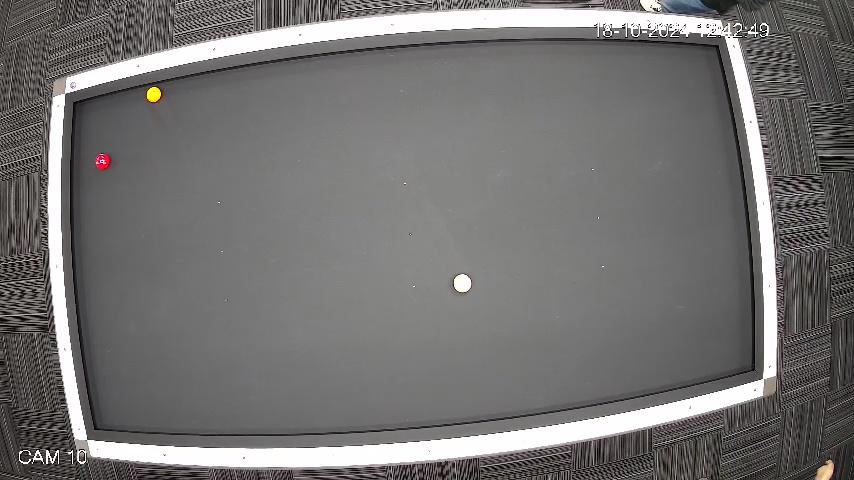Red: (94, 152, 110, 171)
White: (454, 272, 474, 294)
Yellow: (146, 87, 162, 104)
